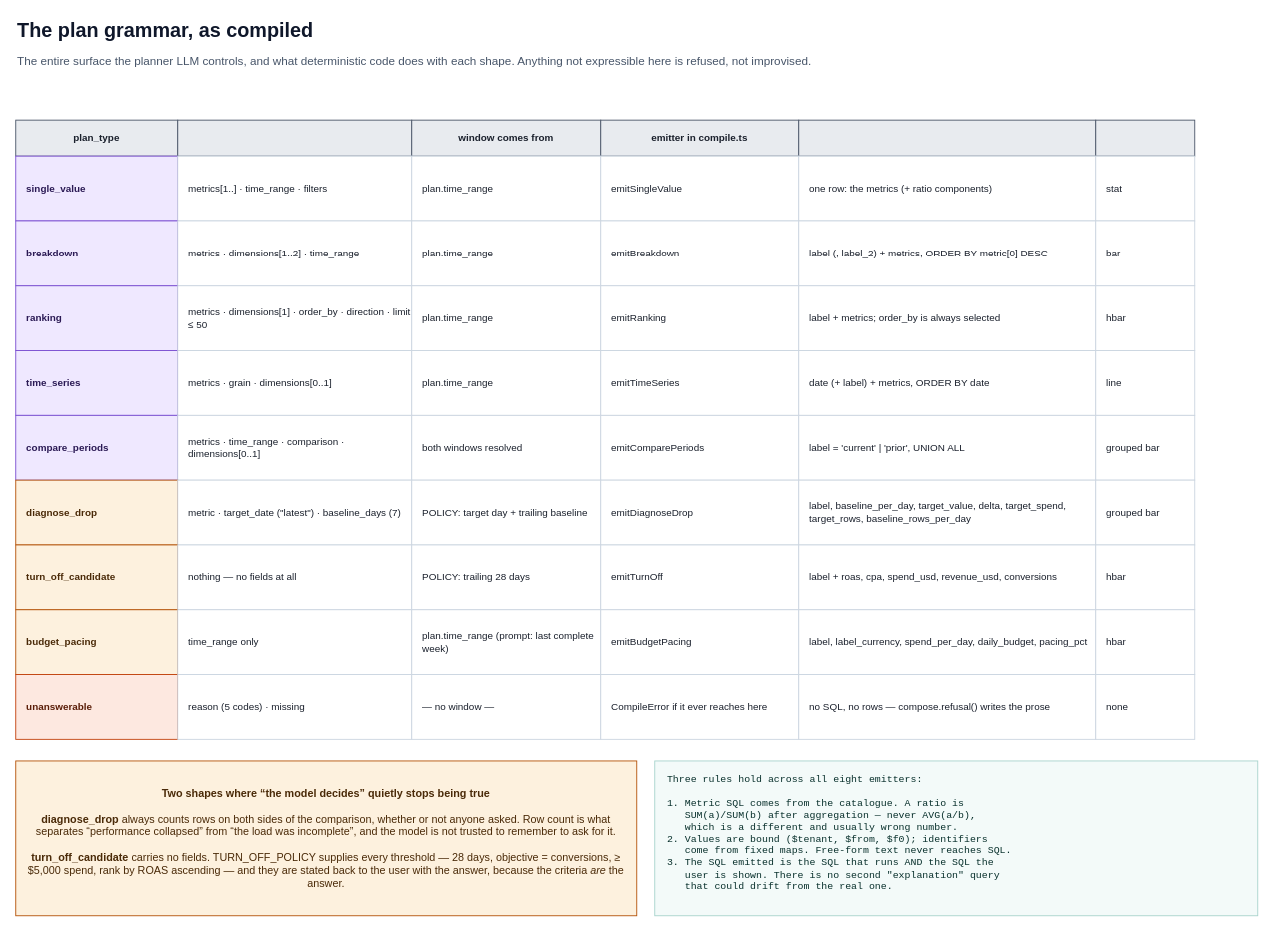
The diagram is 1274 pixels wide and 932 high, and some of its shapes have lost their labels. The centre of each missing label's shape, as x and y in pixels:
chart: the point at 1145,137
result columns: the point at 947,137
what the model fills: the point at 294,137
